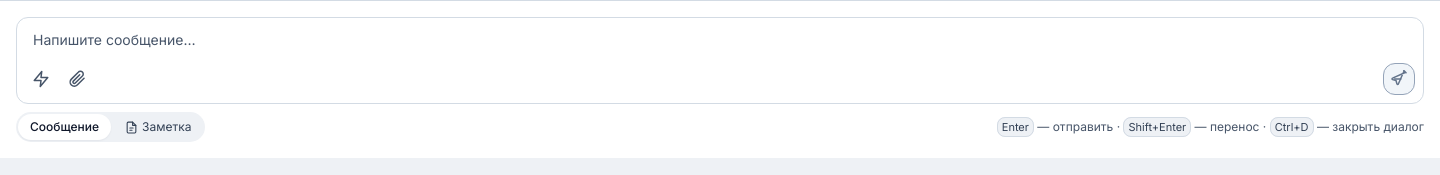
Scenario: Призрачное продолжение в поле › после «Здра» поле показывает продолжение серым
The image size is (1440, 175).
Type "Здра" into the text box named "Текст сообщения" at (720,40), box [25, 26, 1415, 54]
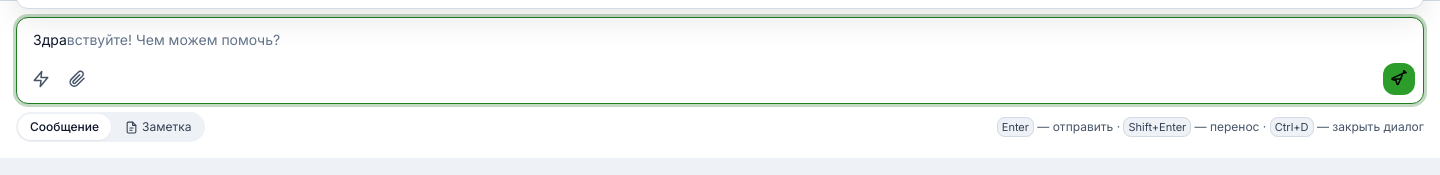
Check: the text with class "composer__ghost-tail" reads "вствуйте! Чем можем помочь?", box [67, 31, 280, 48]
